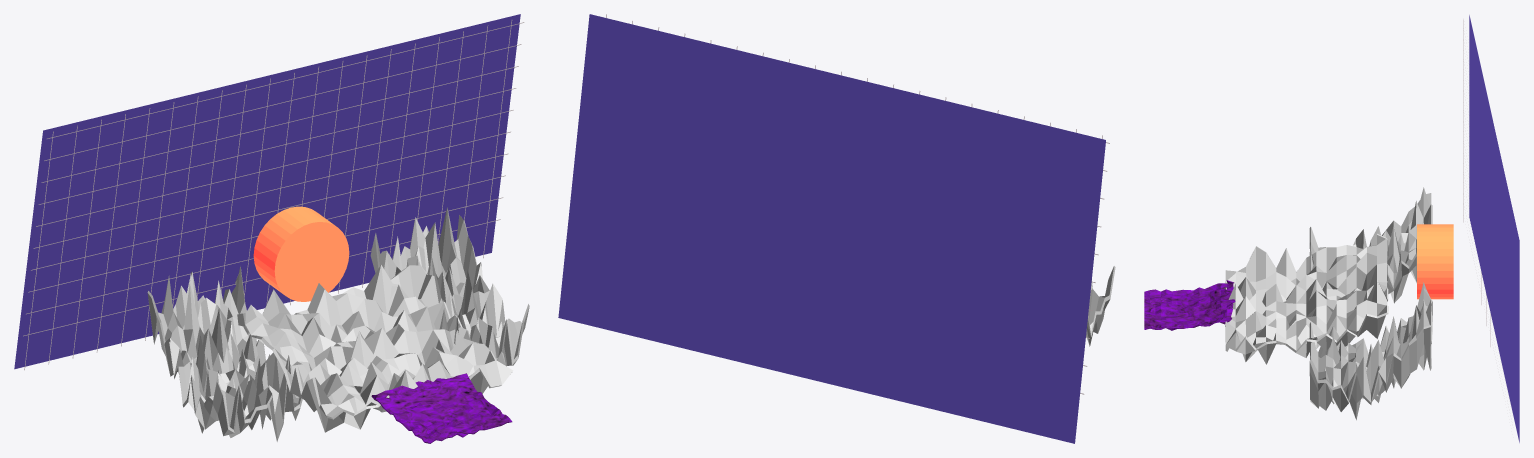
File: blingbling.fbx
The picture shows the model from 3 angles, left to right: view 1: azimuth 30°, elevation 25°; view 2: azimuth 150°, elevation 25°; view 3: azimuth 270°, elevation 25°; orthographic projection. The views are drawn at different scales.
Parts seen in each view (by area): view 1: Plane.004, Plane.001, Plane.003, Plane.002, Cylinder, Plane, Plane.005, Plane.006; view 2: Plane.004, Plane.003; view 3: Plane.001, Plane.004, Plane.002, Plane, Plane.003, Cylinder.
Boxes of the visible parts, x1=… form: Plane.004: x1=14, y1=14, x2=520, y2=369; Plane.001: x1=237, y1=265, x2=513, y2=432; Plane.003: x1=147, y1=266, x2=302, y2=441; Plane.002: x1=370, y1=207, x2=529, y2=366; Cylinder: x1=253, y1=206, x2=349, y2=301; Plane: x1=371, y1=373, x2=512, y2=443; Plane.005: x1=23, y1=22, x2=524, y2=336; Plane.006: x1=24, y1=20, x2=512, y2=370; Plane.004: x1=558, y1=14, x2=1105, y2=443; Plane.003: x1=1086, y1=266, x2=1115, y2=346; Plane.001: x1=1224, y1=233, x2=1388, y2=364; Plane.004: x1=1469, y1=15, x2=1519, y2=442; Plane.002: x1=1309, y1=282, x2=1432, y2=420; Plane: x1=1144, y1=280, x2=1235, y2=330; Plane.003: x1=1309, y1=187, x2=1432, y2=303; Cylinder: x1=1417, y1=224, x2=1453, y2=299.
Size of the model in its own units: 10973 by 6164 by 8561.
Materials: 7 (1 with a texture image).
